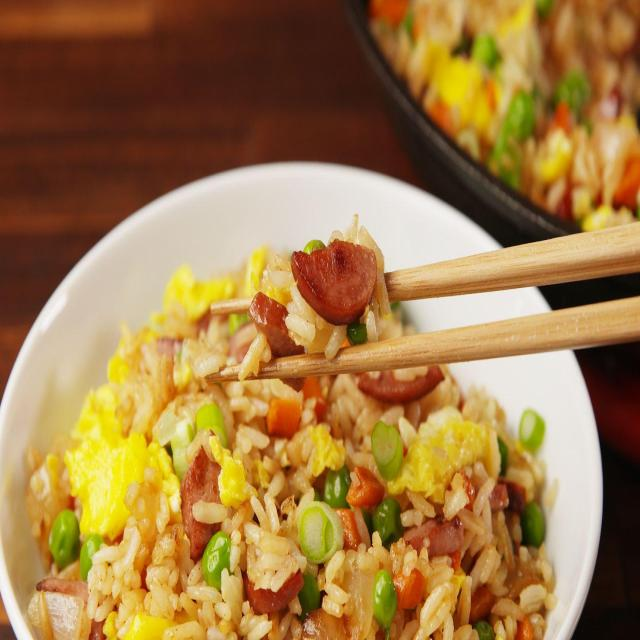Nasi Goreng: (26, 221, 559, 638)
